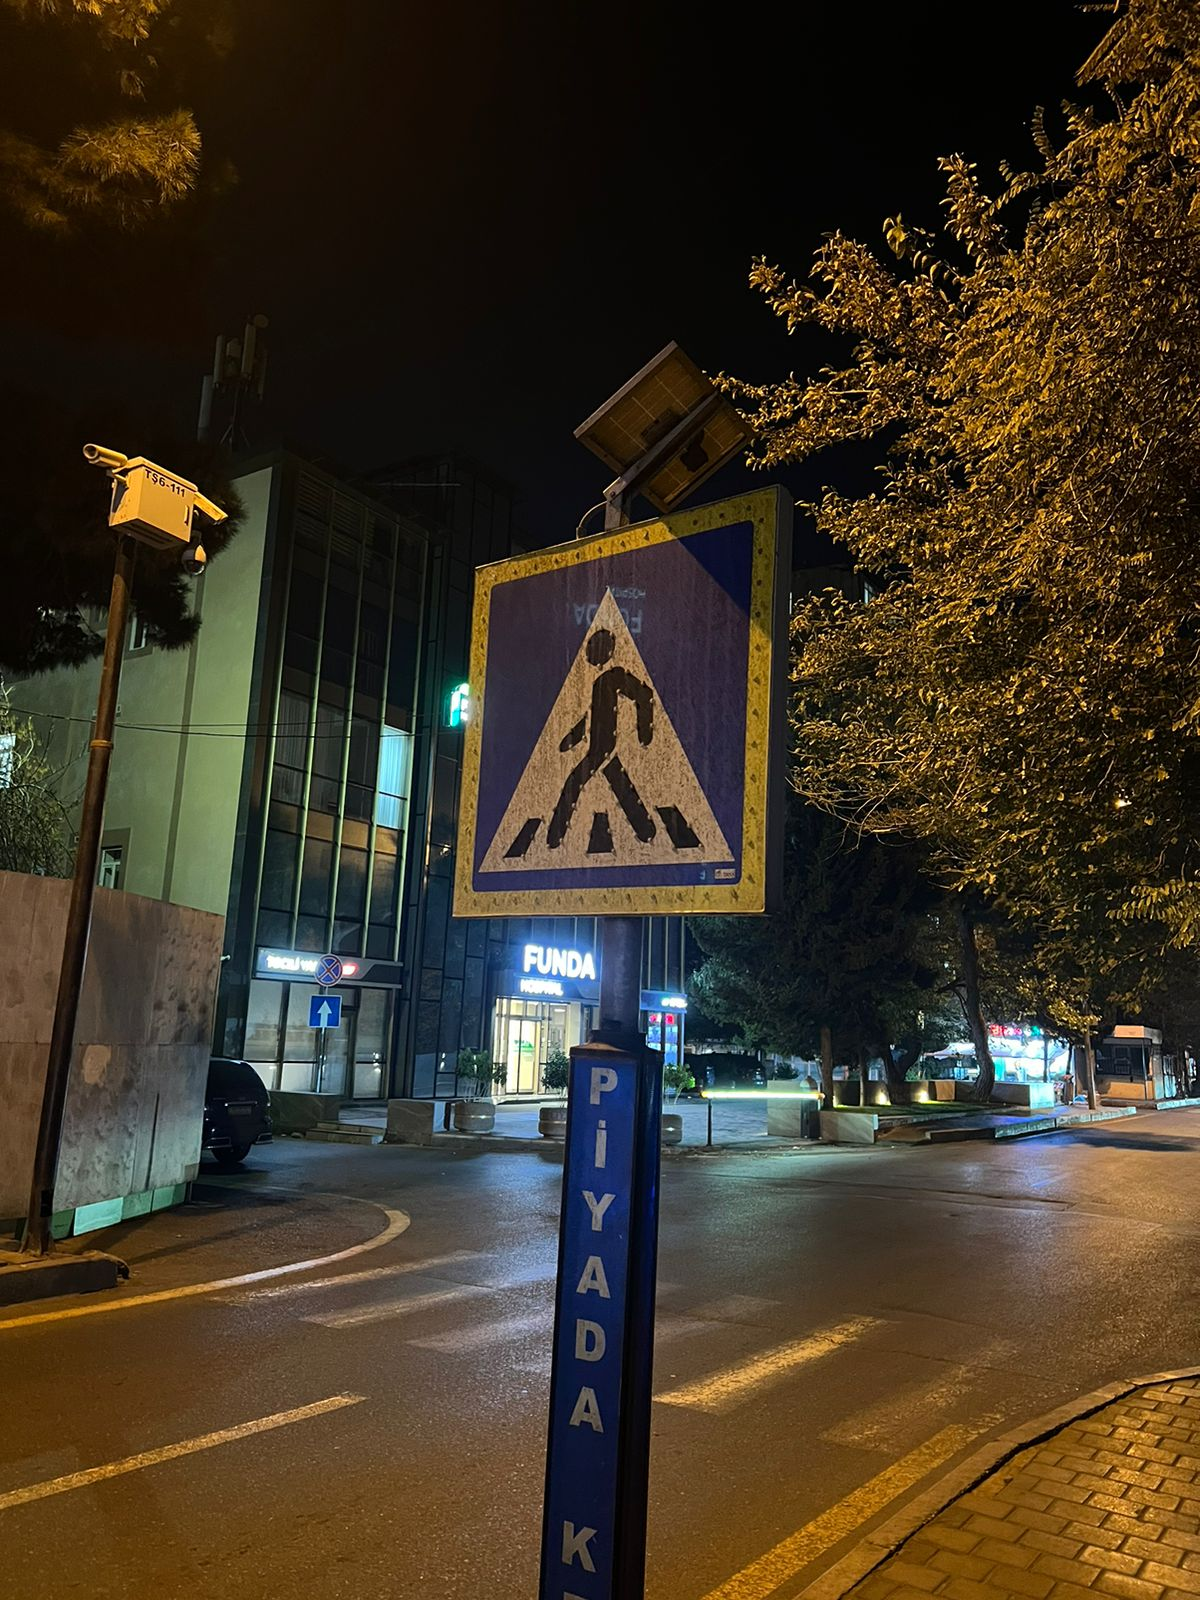Pedestrian Crossing: (453, 488, 776, 918)
